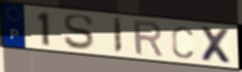1: (36, 10, 51, 48)
C: (170, 24, 195, 60)
I: (112, 16, 124, 56)
R: (131, 19, 165, 59)
S: (62, 14, 95, 51)
X: (199, 25, 236, 66)
